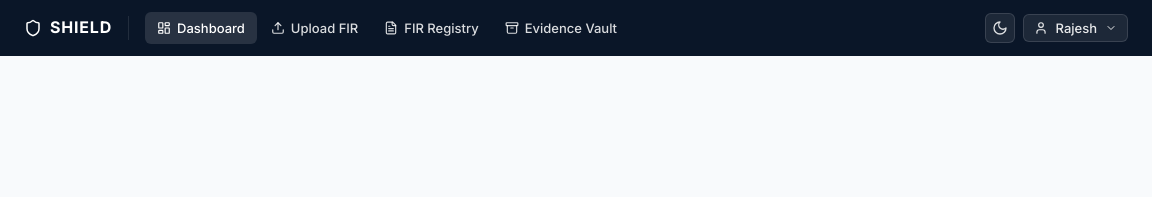
Test: NavBar › opens user dropdown on button click
Click the button "Rajesh" at (1075, 28), box top-left (1022, 14), bottom-right (1128, 42)
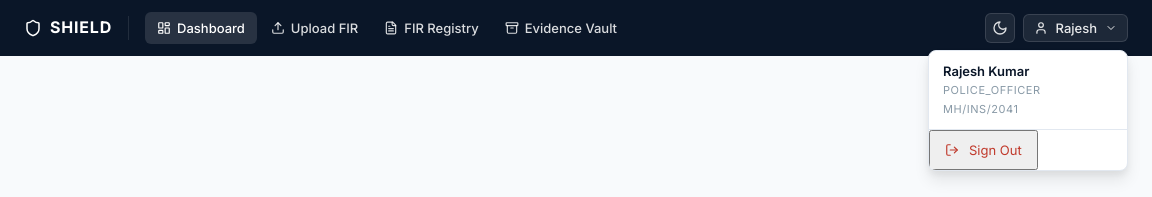
Result: the menu item "Sign Out" is shown at top-left (929, 130), bottom-right (1038, 170)
